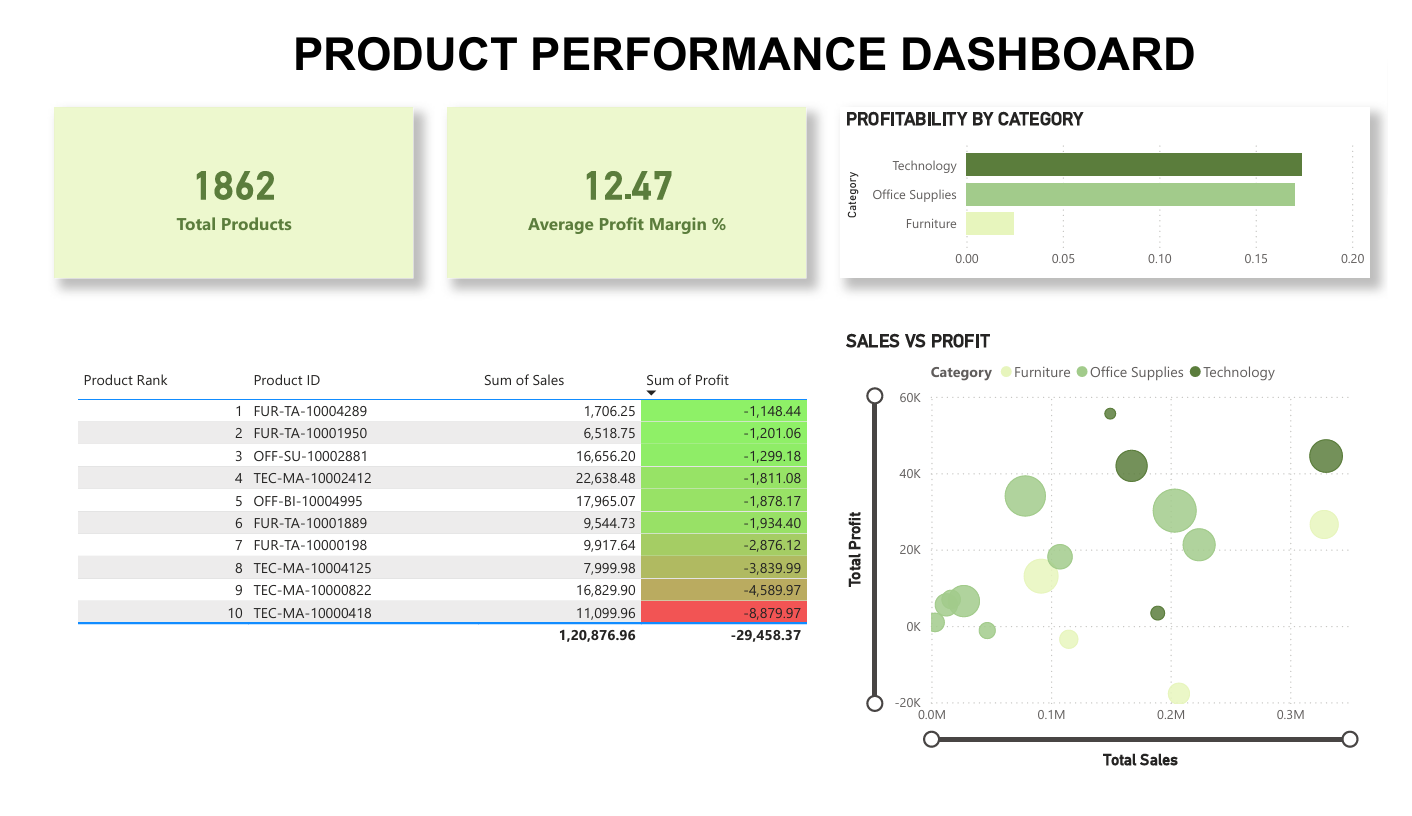

The dashboard page shown, as its layout file describes it:
{"tool":"powerbi","page":{"name":"\tPRODUCT PERFORMANCE DASHBOARD ","canvas":[1280,720],"ordinal":3},"visuals":[{"type":"textbox","box":[16,0,1264,96],"z":0},{"type":"card","fields":{"Values":["Orders.Product Count"]},"box":[80,96,304,144],"z":1000},{"type":"card","fields":{"Values":["Orders.Average Profit Margin %"]},"box":[448,96,304,144],"z":2000},{"type":"tableEx","fields":{"Values":["Orders.Product Rank","Orders.Product ID","Sum(Orders.Sales)","Sum(Orders.Profit)"]},"box":[32,304,384,320],"z":3000},{"type":"barChart","title":"PROFITABILITY BY CATEGORY","fields":{"Y":["Orders.Profit Margin"],"Category":["Orders.Category"]},"box":[448,304,416,320],"z":4000},{"type":"scatterChart","title":"SALES VS PROFIT ","fields":{"Size":["Orders.Total Units Sold"],"X":["Orders.Total Sales"],"Y":["Orders.Total Profit"],"Series":["Orders.Category"],"Category":["Orders.Sub-Category"]},"box":[864,304,416,320],"z":5000}]}

Visuals, with their boxes in screenshot pixels (x1, y1, x2, y2), scaled from the page's 1280x720 canvas onto the 1412x816 screenshot:
textbox: 18,0,1411,109
card - Orders.Product Count: 88,109,424,272
card - Orders.Average Profit Margin %: 494,109,830,272
tableEx - Orders.Product Rank x Orders.Product ID: 35,345,459,707
"PROFITABILITY BY CATEGORY" barChart: 494,345,953,707
"SALES VS PROFIT " scatterChart: 953,345,1411,707
